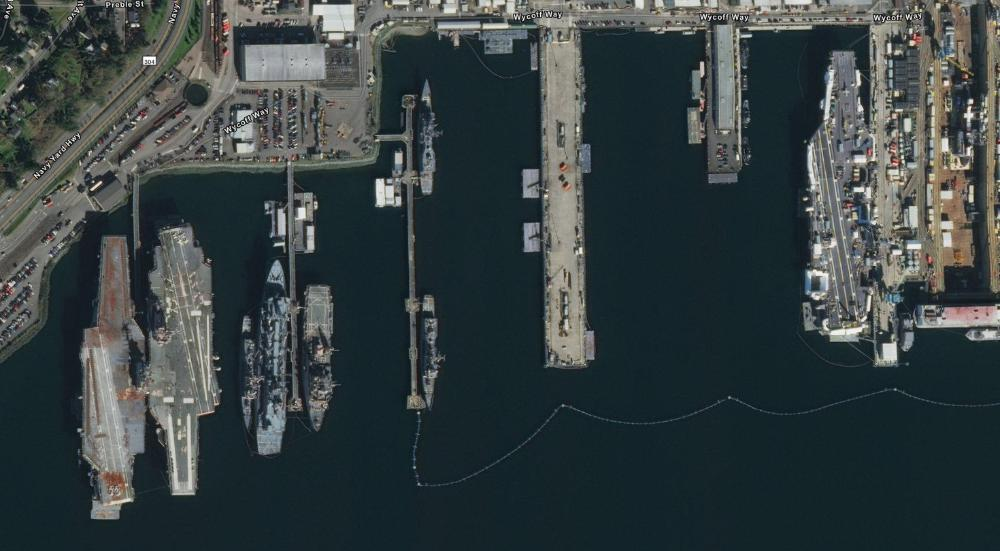carrier: (802, 36, 881, 346), (68, 221, 150, 510), (140, 214, 220, 508)
cruiser: (416, 76, 444, 200), (420, 287, 444, 415), (240, 312, 259, 431)
tender: (255, 258, 291, 462)
